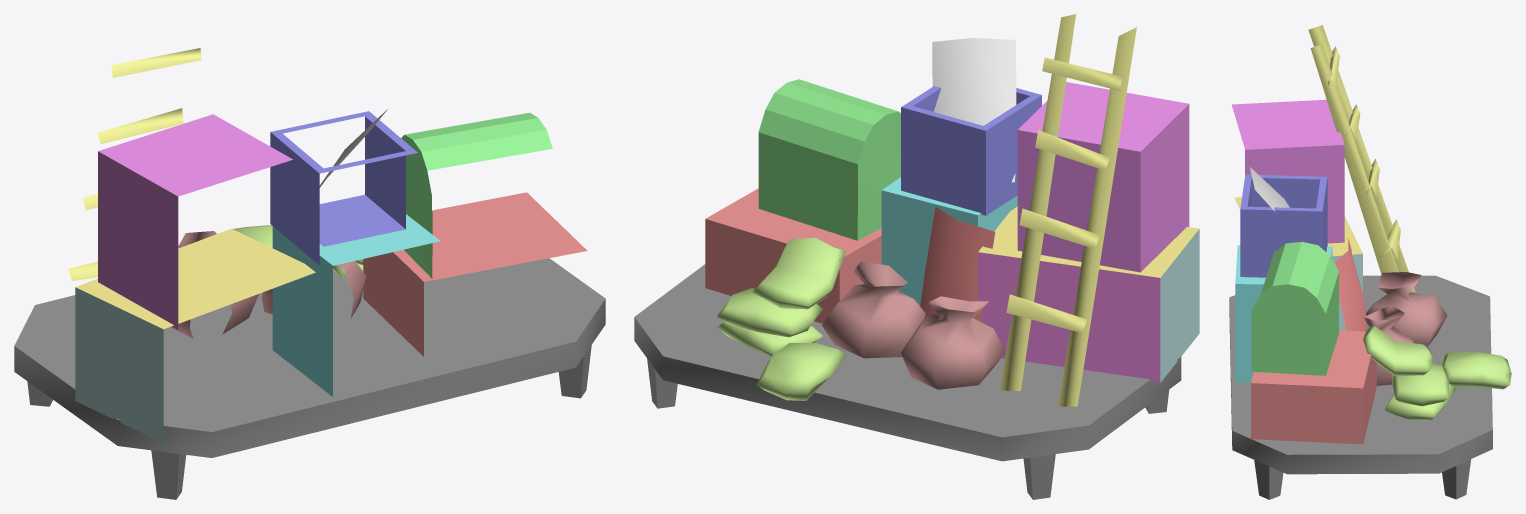
Rendered from interior_Aa_s__etcobject.gltf.
3 views of the same model, side by side, from view 1: azimuth 30°, elevation 25°; view 2: azimuth 150°, elevation 25°; view 3: azimuth 270°, elevation 25° (orthographic). The views are drawn at different scales.
Parts seen in each view (by area): view 1: etcobject; view 2: etcobject; view 3: etcobject.
Part boxes in pixels (x1,y1,x2,y2): etcobject: (14,48,605,499); etcobject: (634,14,1199,499); etcobject: (1229,25,1511,499).
Bounding box in the file's own units: 1.19 × 1 × 0.7823.
